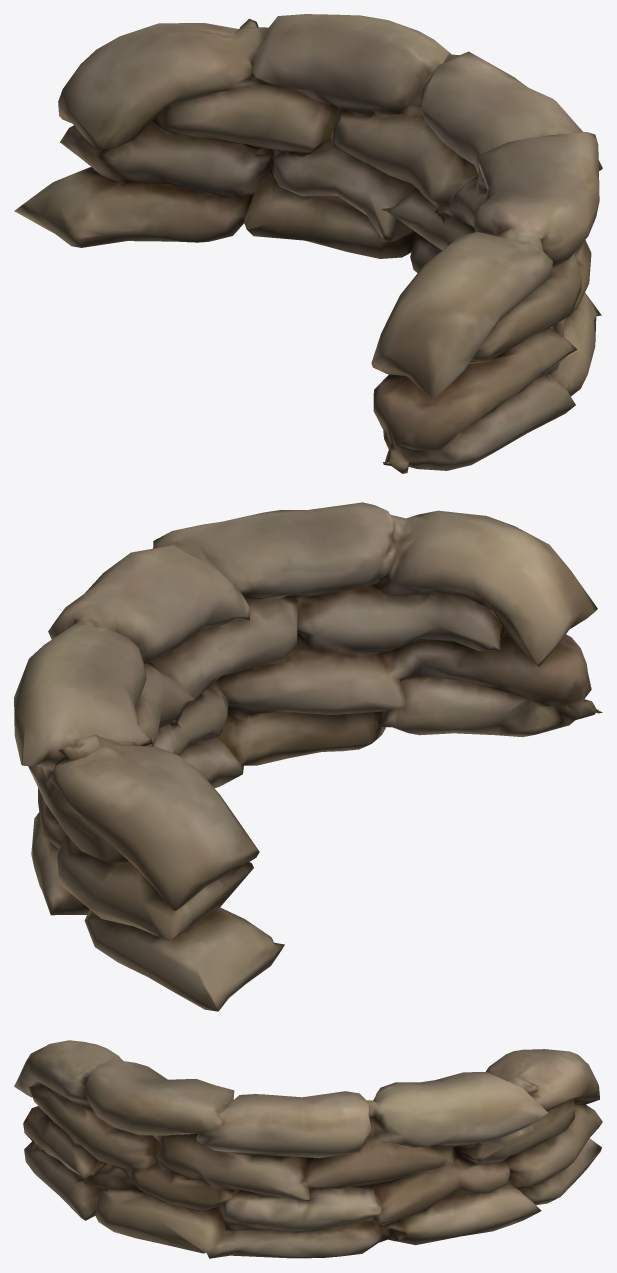
Rendered from DefenseFacilityMedieval_Sand_a9b754.glb.
The picture shows the model from 3 angles, top to bottom: view 1: azimuth 30°, elevation 25°; view 2: azimuth 150°, elevation 25°; view 3: azimuth 270°, elevation 25°; orthographic projection. The views are drawn at different scales.
Size of the model in its own units: 1.09 by 0.6485 by 2.2.
1 material, 1 textured.
